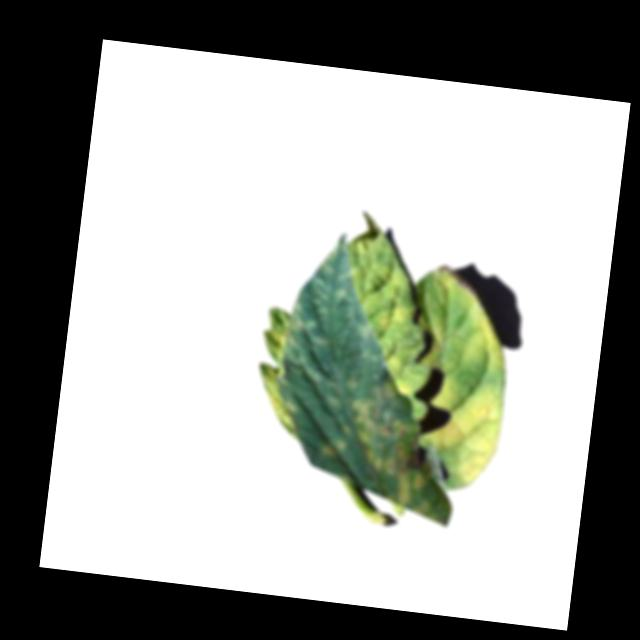Leaf_Mold: (341, 372, 452, 519), (422, 376, 514, 489), (461, 305, 515, 372), (377, 301, 415, 340)
